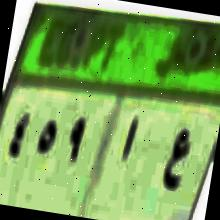4: (0, 106, 32, 171)
5: (33, 113, 58, 167)
9: (63, 106, 91, 173)
ain: (158, 108, 194, 208)
alif: (115, 105, 143, 172)
